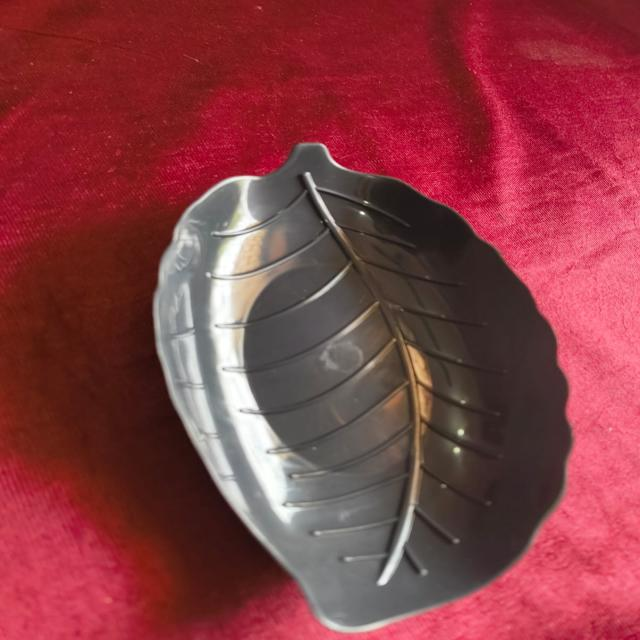plate: (116, 139, 584, 634)
